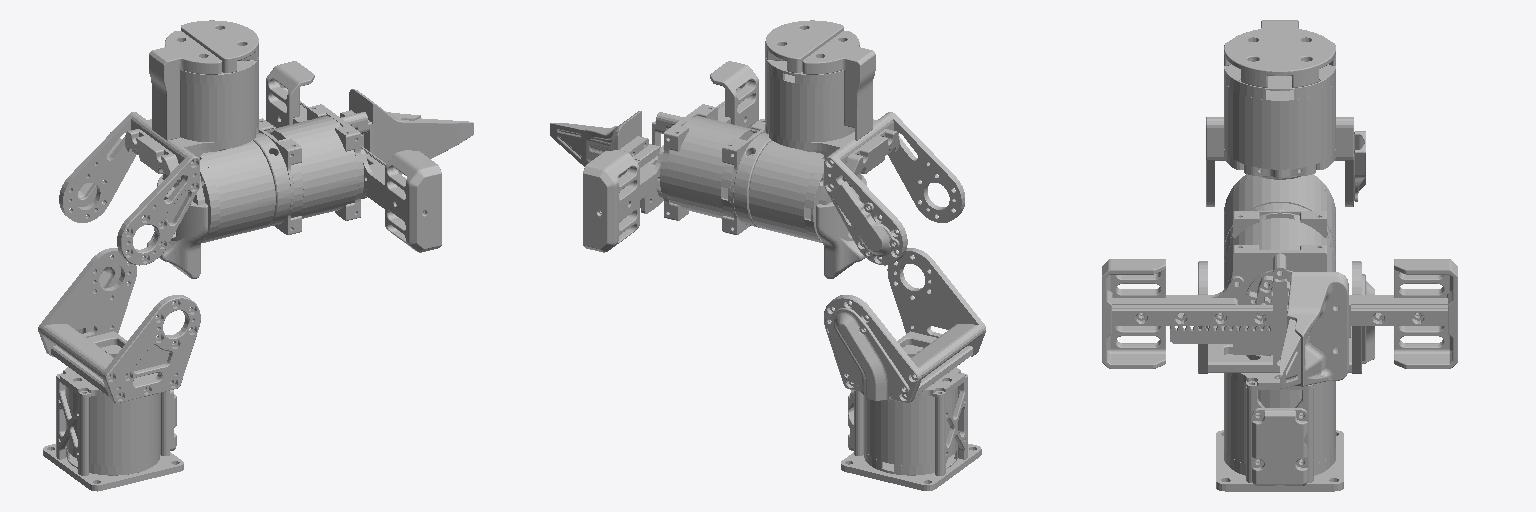
The robot description file, URDF, robot "wxai_base":
<?xml version="1.0" encoding="utf-8"?>
<!-- This URDF was automatically created by SolidWorks to URDF Exporter! Originally created by [author] ([email redacted]) 
     Commit Version: 1.6.0-4-g7f85cfe  Build Version: 1.6.7995.38578
     For more information, please see http://wiki.ros.org/sw_urdf_exporter -->
<robot name="wxai_base">
  <link name="base_link">
    <inertial>
      <origin xyz="0.00052268 -0.00005365 0.03202305" rpy="0 0 0"/>
      <mass value="0.45362020"/>
      <inertia ixx="0.00041296" ixy="-1.8e-7" ixz="-1.8e-6" iyy="0.00043677" iyz="3.8e-7" izz="0.00020350"/>
    </inertial>
    <visual>
      <origin xyz="0 0 0" rpy="0 0 0" />
      <geometry>
        <mesh filename="package://trossen_arm_description/meshes/wxai_base/base_link.stl" />
      </geometry>
      <material name="">
        <color rgba="0.752941176470588 0.752941176470588 0.752941176470588 1" />
      </material>
    </visual>
    <collision>
      <origin xyz="0 0 0" rpy="0 0 0" />
      <geometry>
        <mesh filename="package://trossen_arm_description/meshes/wxai_base/base_link.stl" />
      </geometry>
    </collision>
  </link>
  <link name="link_1">
    <inertial>
      <origin xyz="0.00021239 0.00381558 0.02072601" rpy="0 0 0"/>
      <mass value="0.15843428"/>
      <inertia ixx="0.00019568" ixy="5.8e-6" ixz="1.531e-5" iyy="0.00008633" iyz="5.45e-6" izz="0.00020268"/>
    </inertial>
    <visual>
      <origin xyz="0 0 0" rpy="0 0 0" />
      <geometry>
        <mesh filename="package://trossen_arm_description/meshes/wxai_base/link_1.stl" />
      </geometry>
      <material name="">
        <color rgba="0.752941176470588 0.752941176470588 0.752941176470588 1" />
      </material>
    </visual>
    <collision>
      <origin xyz="0 0 0" rpy="0 0 0" />
      <geometry>
        <mesh filename="package://trossen_arm_description/meshes/wxai_base/link_1.stl" />
      </geometry>
    </collision>
  </link>
  <joint name="joint_0" type="revolute">
    <origin xyz="0 0 0.05725" rpy="0 0 0" />
    <parent link="base_link" />
    <child link="link_1" />
    <axis xyz="0 0 1" />
    <limit lower="-3.14" upper="3.14" effort="0" velocity="0" />
  </joint>
  <link name="link_2">
    <inertial>
      <origin xyz="-0.13013162 -0.00289256 0.00043205" rpy="0 0 0"/>
      <mass value="1.18618542"/>
      <inertia ixx="0.00105929" ixy="4.62e-6" ixz="6.11e-5" iyy="0.01757805" iyz="1.87e-6" izz="0.01814288"/>
    </inertial>
    <visual>
      <origin xyz="0 0 0" rpy="0 0 0" />
      <geometry>
        <mesh filename="package://trossen_arm_description/meshes/wxai_base/link_2.stl" />
      </geometry>
      <material name="">
        <color rgba="0.752941176470588 0.752941176470588 0.752941176470588 1" />
      </material>
    </visual>
    <collision>
      <origin xyz="0 0 0" rpy="0 0 0" />
      <geometry>
        <mesh filename="package://trossen_arm_description/meshes/wxai_base/link_2.stl" />
      </geometry>
    </collision>
  </link>
  <joint name="joint_1" type="revolute">
    <origin xyz="0.02 0 0.04625" rpy="0 0 0" />
    <parent link="link_1" />
    <child link="link_2" />
    <axis xyz="0 -1 0" />
    <limit lower="-3.14" upper="3.14" effort="0" velocity="0" />
  </joint>
  <link name="link_3">
    <inertial>
      <origin xyz="0.20081085 -0.00148559 0.05715902" rpy="0 0 0"/>
      <mass value="1.08254926"/>
      <inertia ixx="0.00096248" ixy="-1.11e-4" ixz="5.91e-4" iyy="0.00690323" iyz="-1.21e-5" izz="0.00717548"/>
    </inertial>
    <visual>
      <origin xyz="0 0 0" rpy="0 0 0" />
      <geometry>
        <mesh filename="package://trossen_arm_description/meshes/wxai_base/link_3.stl" />
      </geometry>
      <material name="">
        <color rgba="0.752941176470588 0.752941176470588 0.752941176470588 1" />
      </material>
    </visual>
    <collision>
      <origin xyz="0 0 0" rpy="0 0 0" />
      <geometry>
        <mesh filename="package://trossen_arm_description/meshes/wxai_base/link_3.stl" />
      </geometry>
    </collision>
  </link>
  <joint name="joint_2" type="revolute">
    <origin xyz="-0.264 0 0" rpy="0 0 0" />
    <parent link="link_2" />
    <child link="link_3" />
    <axis xyz="0 -1 0" />
    <limit lower="-3.14" upper="3.14" effort="0" velocity="0" />
  </joint>
  <link name="link_4">
    <inertial>
      <origin xyz="0.05715387 0.00034278 0.05714934" rpy="0 0 0"/>
      <mass value="0.43735051"/>
      <inertia ixx="0.00051288" ixy="-7.84e-6" ixz="1.73e-4" iyy="0.00062611" iyz="-7.96e-6" izz="0.00040480"/>
    </inertial>
    <visual>
      <origin xyz="0 0 0" rpy="0 0 0" />
      <geometry>
        <mesh filename="package://trossen_arm_description/meshes/wxai_base/link_4.stl" />
      </geometry>
      <material name="">
        <color rgba="0.752941176470588 0.752941176470588 0.752941176470588 1" />
      </material>
    </visual>
    <collision>
      <origin xyz="0 0 0" rpy="0 0 0" />
      <geometry>
        <mesh filename="package://trossen_arm_description/meshes/wxai_base/link_4.stl" />
      </geometry>
    </collision>
  </link>
  <joint name="joint_3" type="revolute">
    <origin xyz="0.245 0 0.06" rpy="0 0 0" />
    <parent link="link_3" />
    <child link="link_4" />
    <axis xyz="0 -1 0" />
    <limit lower="-3.14" upper="3.14" effort="0" velocity="0" />
  </joint>
  <link name="link_5">
    <inertial>
      <origin xyz="0.00386239 -0.00001131 -0.04318054" rpy="0 0 0"/>
      <mass value="0.36982410"/>
      <inertia ixx="0.00018840" ixy="4.5e-7" ixz="2.45e-6" iyy="0.00032339" iyz="-3e-8" izz="0.00026992"/>
    </inertial>
    <visual>
      <origin xyz="0 0 0" rpy="0 0 0" />
      <geometry>
        <mesh filename="package://trossen_arm_description/meshes/wxai_base/link_5.stl" />
      </geometry>
      <material name="">
        <color rgba="0.752941176470588 0.752941176470588 0.752941176470588 1" />
      </material>
    </visual>
    <collision>
      <origin xyz="0 0 0" rpy="0 0 0" />
      <geometry>
        <mesh filename="package://trossen_arm_description/meshes/wxai_base/link_5.stl" />
      </geometry>
    </collision>
  </link>
  <joint name="joint_4" type="revolute">
    <origin xyz="0.06775 0 0.0455" rpy="0 0 0" />
    <parent link="link_4" />
    <child link="link_5" />
    <axis xyz="0 0 -1" />
    <limit lower="-3.14" upper="3.14" effort="0" velocity="0" />
  </joint>
  <link name="link_6">
    <inertial>
      <origin xyz="0.04399695 -0.00000761 0.00001510" rpy="0 0 0"/>
      <mass value="0.51498747"/>
      <inertia ixx="0.00056037" ixy="5.1e-7" ixz="-9e-8" iyy="0.00045167" iyz="-4e-8" izz="0.00081937"/>
    </inertial>
    <visual>
      <origin xyz="0 0 0" rpy="0 0 0" />
      <geometry>
        <mesh filename="package://trossen_arm_description/meshes/wxai_base/link_6.stl" />
      </geometry>
      <material name="">
        <color rgba="0.752941176470588 0.752941176470588 0.752941176470588 1" />
      </material>
    </visual>
    <collision>
      <origin xyz="0 0 0" rpy="0 0 0" />
      <geometry>
        <mesh filename="package://trossen_arm_description/meshes/wxai_base/link_6.stl" />
      </geometry>
    </collision>
  </link>
  <joint name="joint_5" type="revolute">
    <origin xyz="0.02895 0 -0.0455" rpy="0 0 0" />
    <parent link="link_5" />
    <child link="link_6" />
    <axis xyz="1 0 0" />
    <limit lower="-3.14" upper="3.14" effort="0" velocity="0" />
  </joint>
  <link name="gripper_left">
    <inertial>
      <origin xyz="0.00780825 -0.00528697 -0.00368479" rpy="0 0 0"/>
      <mass value="0.07618477"/>
      <inertia ixx="0.00002759" ixy="-0.00000495" ixz="-0.00000052" iyy="0.00003194" iyz="0.00000327" izz="0.00003791"/>
    </inertial>
    <visual>
      <origin xyz="0 0 0" rpy="0 0 0" />
      <geometry>
        <mesh filename="package://trossen_arm_description/meshes/wxai_base/gripper_left.stl" />
      </geometry>
      <material name="">
        <color rgba="0.752941176470588 0.752941176470588 0.752941176470588 1" />
      </material>
    </visual>
    <collision>
      <origin xyz="0 0 0" rpy="0 0 0" />
      <geometry>
        <mesh filename="package://trossen_arm_description/meshes/wxai_base/gripper_left.stl" />
      </geometry>
    </collision>
  </link>
  <joint name="joint_gl" type="prismatic">
    <origin xyz="0.078 0.021375 0" rpy="0 0 0" />
    <parent link="link_6" />
    <child link="gripper_left" />
    <axis xyz="0 1 0" />
    <limit lower="-3.14" upper="3.14" effort="0" velocity="0" />
  </joint>
  <link name="gripper_right">
    <inertial>
      <origin xyz="0.00780824 0.00528691 0.00221090" rpy="0 0 0"/>
      <mass value="0.07618477"/>
      <inertia ixx="0.00002759" ixy="0.00000495" ixz="-0.00000275" iyy="0.00003194" iyz="0.00000203" izz="0.00003791"/>
    </inertial>
    <visual>
      <origin xyz="0 0 0" rpy="0 0 0" />
      <geometry>
        <mesh filename="package://trossen_arm_description/meshes/wxai_base/gripper_right.stl" />
      </geometry>
      <material name="">
        <color rgba="0.752941176470588 0.752941176470588 0.752941176470588 1" />
      </material>
    </visual>
    <collision>
      <origin xyz="0 0 0" rpy="0 0 0" />
      <geometry>
        <mesh filename="package://trossen_arm_description/meshes/wxai_base/gripper_right.stl" />
      </geometry>
    </collision>
  </link>
  <joint name="joint_gr" type="prismatic">
    <origin xyz="0.078 -0.021375 0" rpy="0 0 0" />
    <parent link="link_6" />
    <child link="gripper_right" />
    <axis xyz="0 -1 0" />
    <limit lower="-3.14" upper="3.14" effort="0" velocity="0" />
  </joint>
</robot>

--- What the picture shows (computed from the rendered views, not written in the file) ---
Views: 3 orthographic renders of the robot side by side, from view 1: azimuth 30°, elevation 25°; view 2: azimuth 150°, elevation 25°; view 3: azimuth 270°, elevation 25°.
Model wxai_base with 9 links and 8 joints (6 revolute, 2 prismatic), rooted at base_link, posed all joints at 0.
Links seen in each view (by area): view 1: link_4, link_6, link_1, base_link, link_5, gripper_left; view 2: link_4, link_6, link_1, base_link, link_5, gripper_left; view 3: link_6, link_4, base_link, gripper_left, link_1, link_5.
Link boxes in pixels (x1,y1,x2,y2): link_4: (59,20,258,265); link_6: (253,61,441,252); link_1: (38,248,200,402); base_link: (43,367,183,491); link_5: (147,140,275,278); gripper_left: (340,89,473,208); link_4: (765,20,964,265); link_6: (583,61,771,252); link_1: (824,248,985,402); base_link: (841,367,981,490); link_5: (749,141,866,278); gripper_left: (550,111,663,213); link_6: (1102,203,1457,368); link_4: (1206,20,1365,206); base_link: (1216,373,1343,491); gripper_left: (1170,272,1350,388); link_1: (1198,261,1374,373); link_5: (1224,174,1335,245).
Bounding box of the posed robot: 0.2841 × 0.1806 × 0.265 m (x, y, z).
6 mesh visuals loaded from 9 distinct referenced files (6 binary STL); not drawn: 3 (reference not matched to a file when rendering).